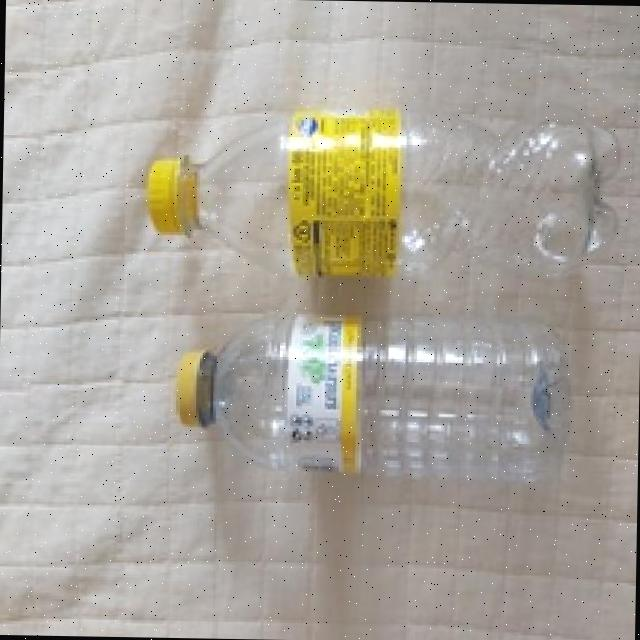bottle: (138, 89, 620, 292), (162, 299, 579, 486)
cap: (138, 142, 198, 243), (166, 336, 224, 437)
label: (243, 302, 373, 472), (288, 102, 404, 286)
